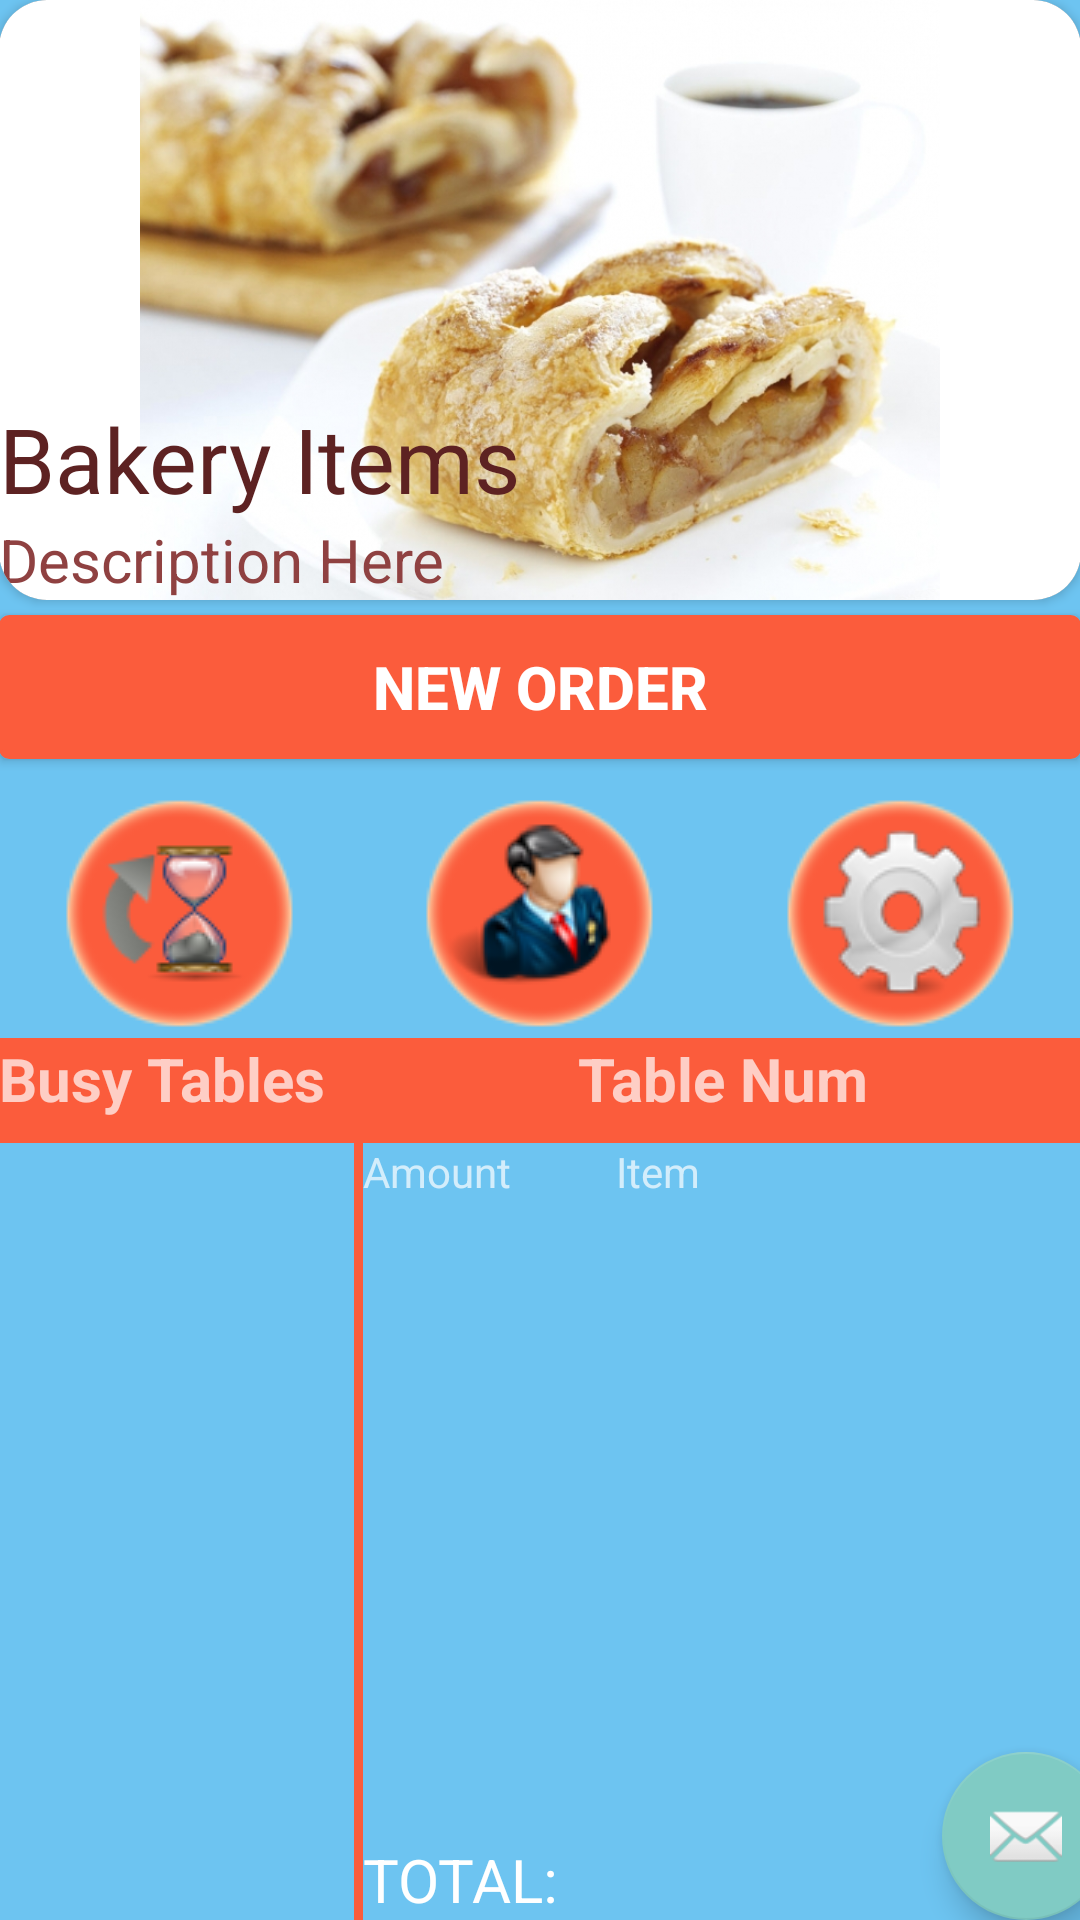

Where icons sit on this 1080w x 1920h app screen, as {"left": x1, "top": y1, "right": x2, "bottom": y2}:
adminpanel: {"left": 426, "top": 800, "right": 653, "bottom": 1027}
history: {"left": 66, "top": 800, "right": 293, "bottom": 1027}
setting: {"left": 787, "top": 800, "right": 1014, "bottom": 1027}
